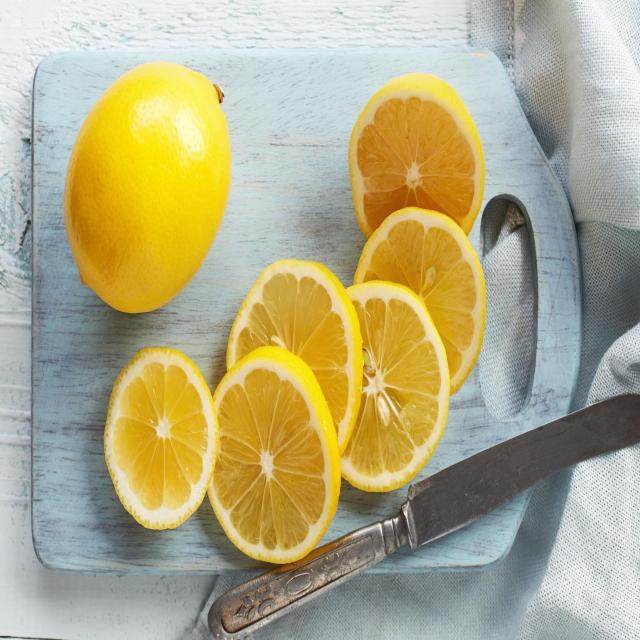lemon: (60, 56, 234, 318)
